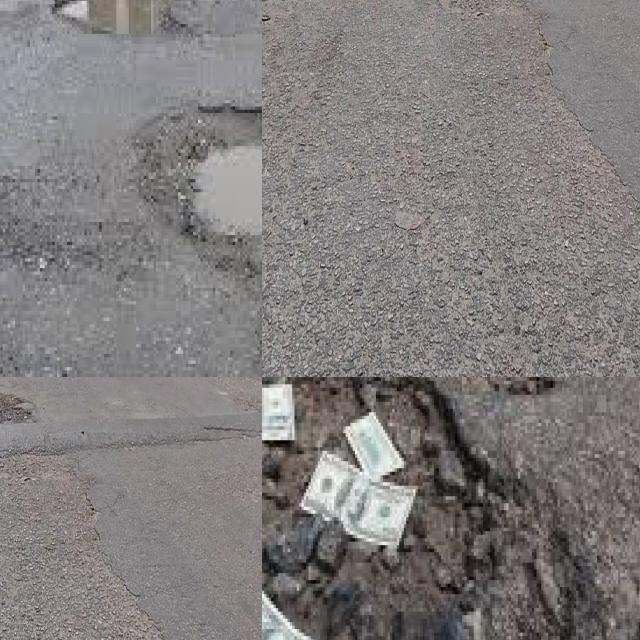Pothole: (262, 377, 562, 640), (149, 120, 262, 248), (52, 0, 160, 34), (471, 377, 560, 402), (0, 389, 35, 421)
